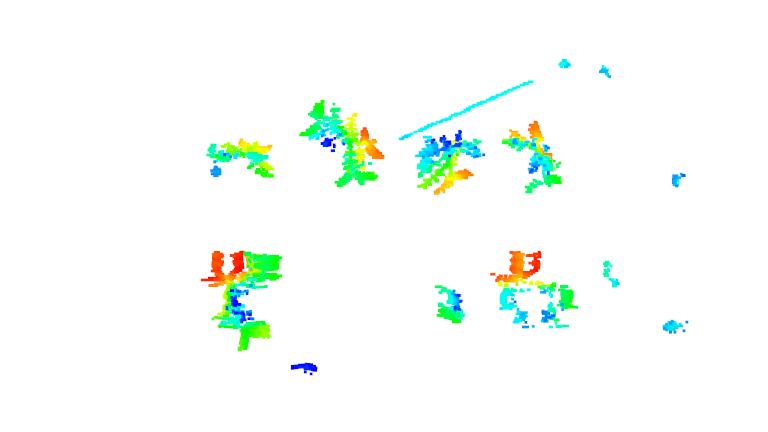chickpea: (197, 243, 283, 351), (301, 97, 381, 190), (491, 251, 578, 331), (416, 129, 483, 192), (506, 121, 564, 192), (207, 133, 276, 187), (435, 282, 467, 324)
